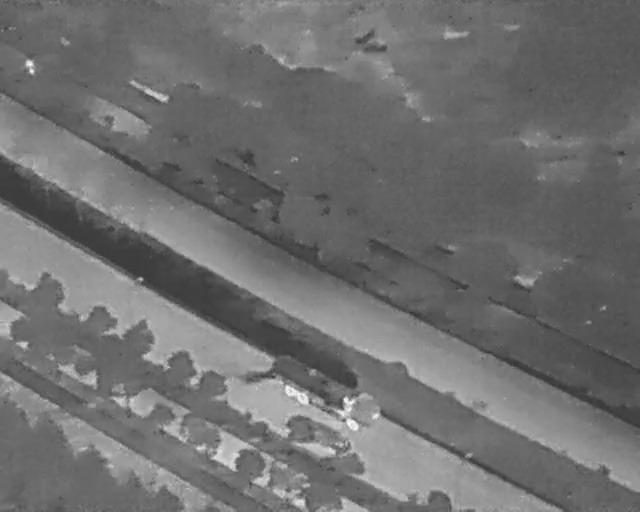Car: (283, 410, 357, 460)
OtherVehicle: (262, 348, 388, 438)
